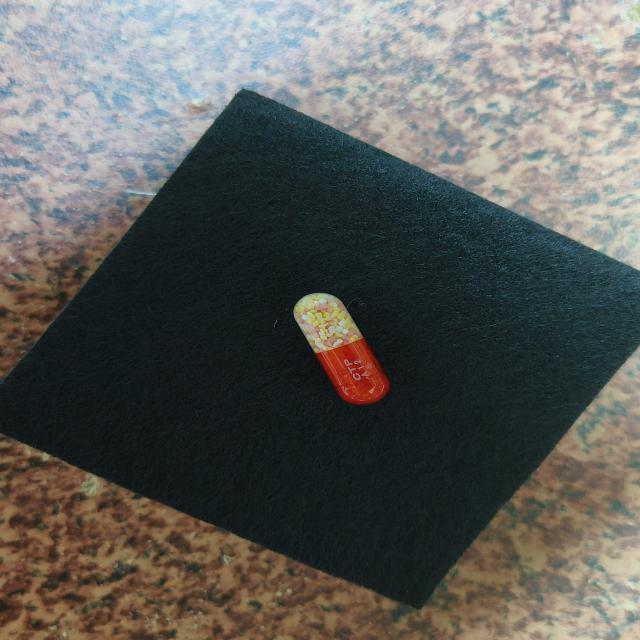Intact Capsule: (294, 293, 390, 405)
